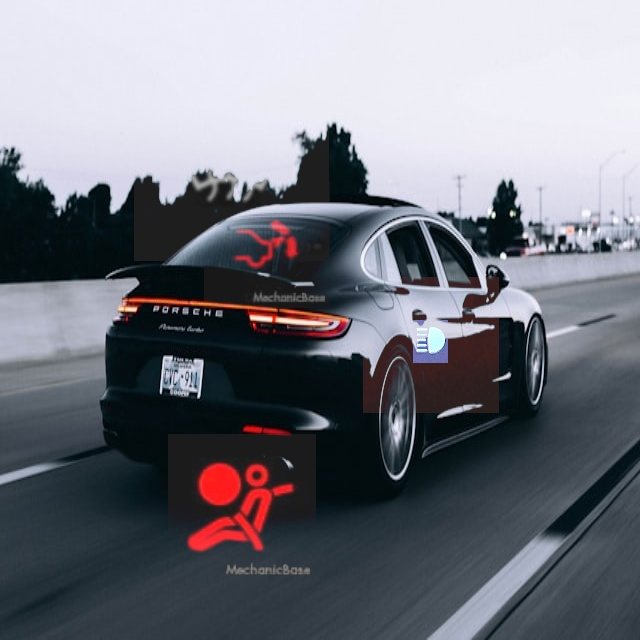symbol: (134, 66, 329, 261), (168, 434, 316, 582), (363, 277, 499, 413), (204, 182, 330, 308)
